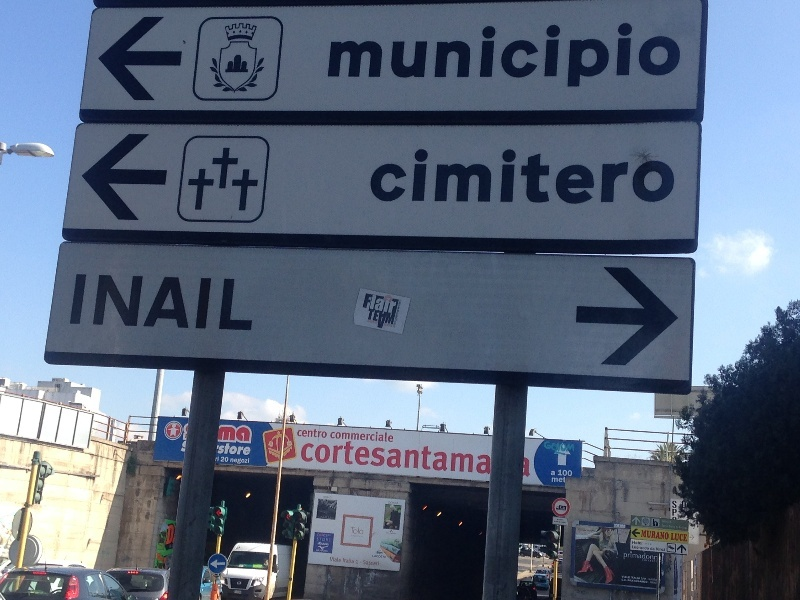text: (337, 23, 352, 89), (353, 23, 368, 89), (369, 23, 384, 89), (385, 23, 400, 89), (401, 23, 416, 89), (417, 23, 432, 89), (433, 23, 448, 89), (449, 23, 464, 89), (465, 23, 480, 89), (481, 23, 496, 89), (497, 23, 512, 89), (513, 23, 528, 89), (529, 23, 544, 89), (545, 23, 560, 89), (561, 23, 576, 89), (577, 23, 592, 89), (593, 23, 608, 89), (609, 23, 624, 89), (625, 23, 640, 89), (641, 23, 656, 89), (657, 23, 672, 89), (385, 148, 400, 204), (401, 148, 416, 204), (417, 148, 432, 204), (433, 148, 448, 204), (449, 148, 464, 204), (465, 148, 480, 204), (481, 148, 496, 204), (497, 148, 512, 204), (513, 148, 528, 204), (529, 148, 544, 204), (545, 148, 560, 204), (561, 148, 576, 204), (577, 148, 592, 204), (593, 148, 608, 204), (609, 148, 624, 204), (625, 148, 640, 204), (641, 148, 656, 204), (657, 148, 672, 204), (81, 275, 96, 331), (97, 275, 112, 331), (113, 275, 128, 331), (129, 275, 144, 331), (145, 275, 160, 331), (161, 275, 176, 331), (177, 275, 192, 331), (193, 275, 208, 331), (209, 275, 224, 331), (225, 275, 240, 331), (241, 275, 256, 331), (305, 435, 320, 479), (321, 435, 336, 479), (337, 435, 352, 479), (353, 435, 368, 479), (369, 435, 384, 479), (385, 435, 400, 479), (401, 435, 416, 479), (417, 435, 432, 479), (433, 435, 448, 479), (449, 435, 464, 479), (465, 435, 480, 479), (481, 435, 496, 479), (497, 435, 512, 479), (513, 435, 528, 479), (373, 148, 384, 204), (673, 23, 682, 89), (369, 293, 384, 314), (369, 309, 384, 330), (385, 293, 398, 314), (193, 425, 208, 443), (209, 425, 224, 443), (225, 425, 240, 443), (193, 441, 208, 457), (209, 441, 224, 457), (225, 441, 240, 457), (385, 309, 395, 330), (333, 23, 336, 89), (337, 430, 352, 443), (353, 430, 368, 443), (369, 430, 384, 443), (241, 425, 251, 443), (673, 148, 676, 204), (77, 275, 80, 331), (305, 428, 320, 439), (545, 441, 560, 452), (241, 441, 251, 457), (561, 441, 575, 452), (625, 551, 640, 561), (641, 551, 656, 561), (183, 441, 192, 457), (625, 576, 640, 585), (641, 576, 656, 585), (642, 531, 656, 540), (185, 425, 192, 443), (385, 430, 394, 443), (657, 531, 669, 540), (673, 534, 687, 541), (353, 527, 364, 535), (561, 470, 572, 477), (673, 501, 677, 520), (673, 525, 687, 530), (321, 428, 327, 439), (331, 430, 336, 443), (257, 275, 258, 331), (299, 428, 304, 439), (343, 558, 352, 564), (231, 458, 240, 464), (241, 458, 250, 464), (369, 561, 379, 566), (662, 525, 672, 530), (552, 477, 560, 483), (216, 456, 224, 462), (551, 471, 560, 476), (303, 435, 304, 479), (529, 435, 530, 479), (357, 560, 368, 564), (373, 555, 384, 559), (645, 547, 656, 551), (366, 293, 368, 314), (321, 538, 331, 542), (657, 576, 661, 585), (321, 534, 332, 537), (561, 477, 566, 483), (662, 521, 672, 524), (633, 541, 640, 545), (633, 546, 640, 550), (615, 525, 624, 528), (331, 558, 336, 563), (657, 548, 665, 551), (221, 456, 224, 463), (225, 456, 228, 463), (337, 558, 341, 563), (364, 561, 368, 566), (651, 547, 656, 551), (561, 521, 567, 524), (622, 576, 624, 585), (555, 521, 560, 524), (558, 470, 560, 477), (317, 538, 320, 542), (641, 546, 644, 550), (657, 551, 658, 561), (317, 534, 320, 537), (351, 527, 352, 535), (360, 562, 368, 563), (385, 555, 387, 559), (641, 541, 643, 545), (353, 558, 354, 564), (557, 520, 560, 521), (561, 520, 564, 521)
